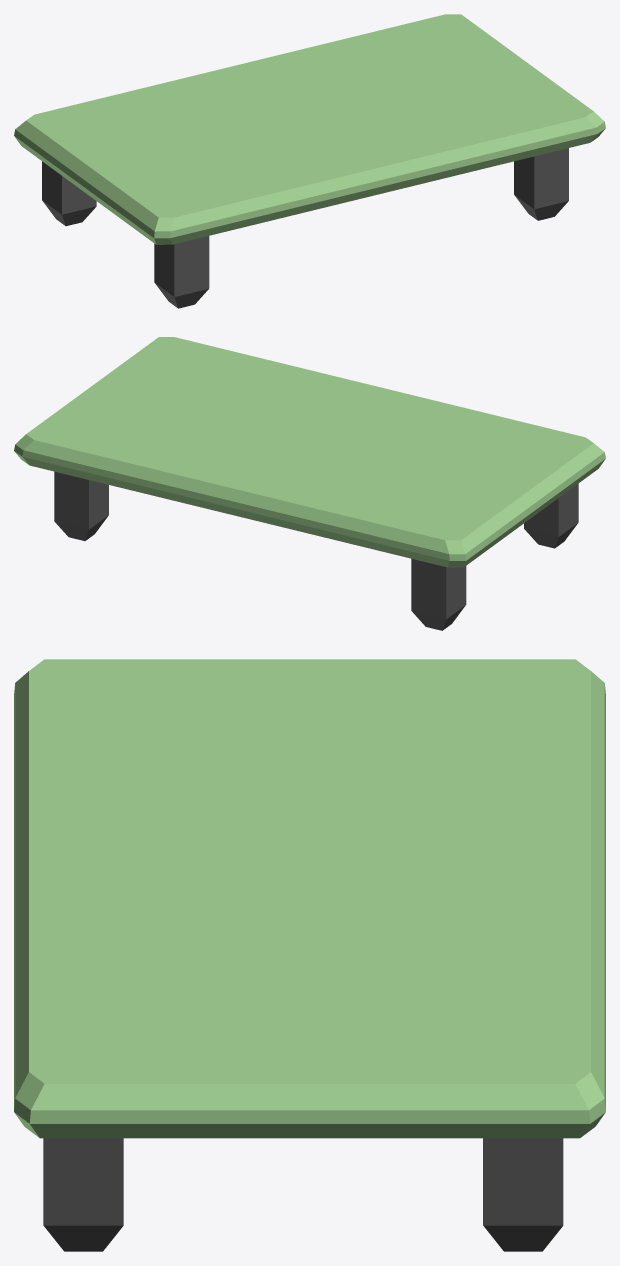
File: Coffee table.fbx
The picture shows the model from 3 angles, top to bottom: view 1: azimuth 30°, elevation 25°; view 2: azimuth 150°, elevation 25°; view 3: azimuth 270°, elevation 25°; orthographic projection. The views are drawn at different scales.
Parts seen in each view (by area): view 1: Coffee table; view 2: Coffee table; view 3: Coffee table.
Boxes of the visible parts, bbox=[...] form: Coffee table: bbox=[14, 14, 605, 308]; Coffee table: bbox=[14, 337, 605, 630]; Coffee table: bbox=[14, 659, 605, 1251].
Size of the model in its own units: 583 by 124 by 331.
